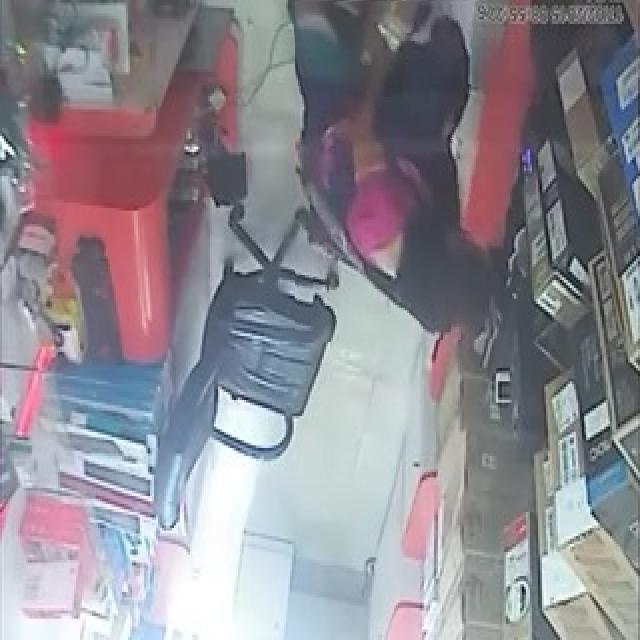Shoplifting: (295, 0, 503, 342)
